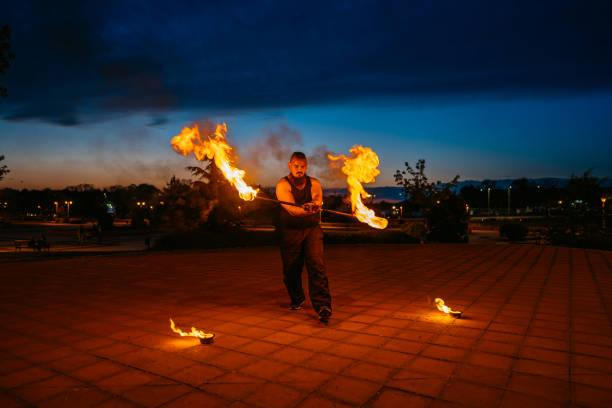Fire: (141, 97, 265, 206)
